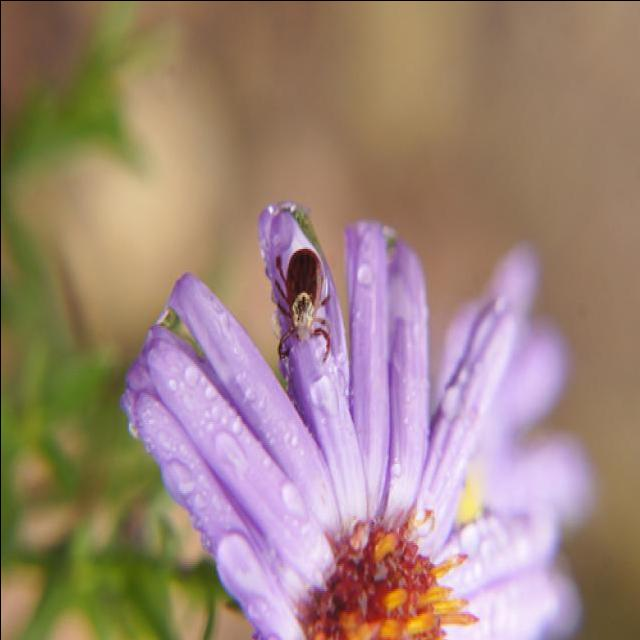Dermacentor Reticulatus-F: (271, 246, 333, 359)
